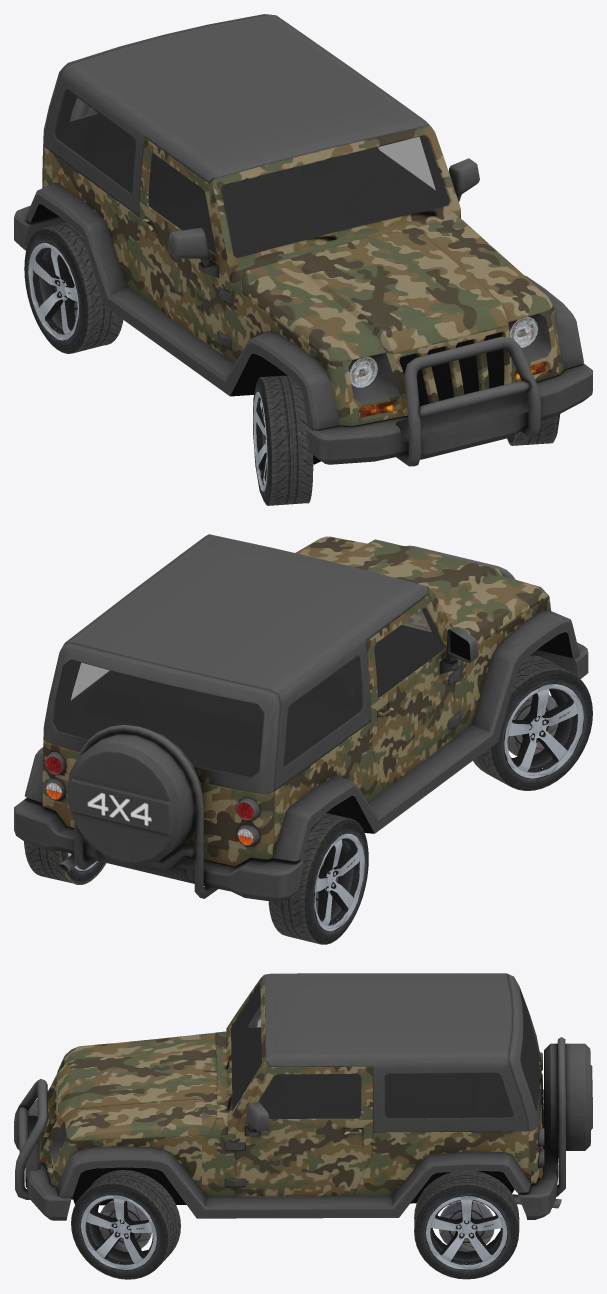
The model's file is thar-4x4-3dd9c0.glb.
The picture shows the model from 3 angles, top to bottom: view 1: azimuth 30°, elevation 25°; view 2: azimuth 150°, elevation 25°; view 3: azimuth 270°, elevation 25°; orthographic projection. The views are drawn at different scales.
Parts seen in each view (by area): view 1: body, wheel-back-right, wheel-front-right, wheel-front-left; view 2: body, wheel-front-right, wheel-back-right, wheel-back-left; view 3: body, wheel-front-left, wheel-back-left.
Part boxes in pixels (x1,y1,x2,y2): body: (14, 14, 592, 466); wheel-back-right: (24, 222, 123, 353); wheel-front-right: (253, 375, 313, 505); wheel-front-left: (507, 414, 560, 445); body: (14, 534, 588, 911); wheel-front-right: (473, 655, 592, 790); wheel-back-right: (268, 813, 368, 944); wheel-back-left: (24, 841, 106, 884); body: (14, 973, 592, 1251); wheel-front-left: (71, 1170, 180, 1279); wheel-back-left: (414, 1171, 519, 1279).
Size of the model in its own units: 2.04 by 1.58 by 3.93.
6 materials, 5 textured.
